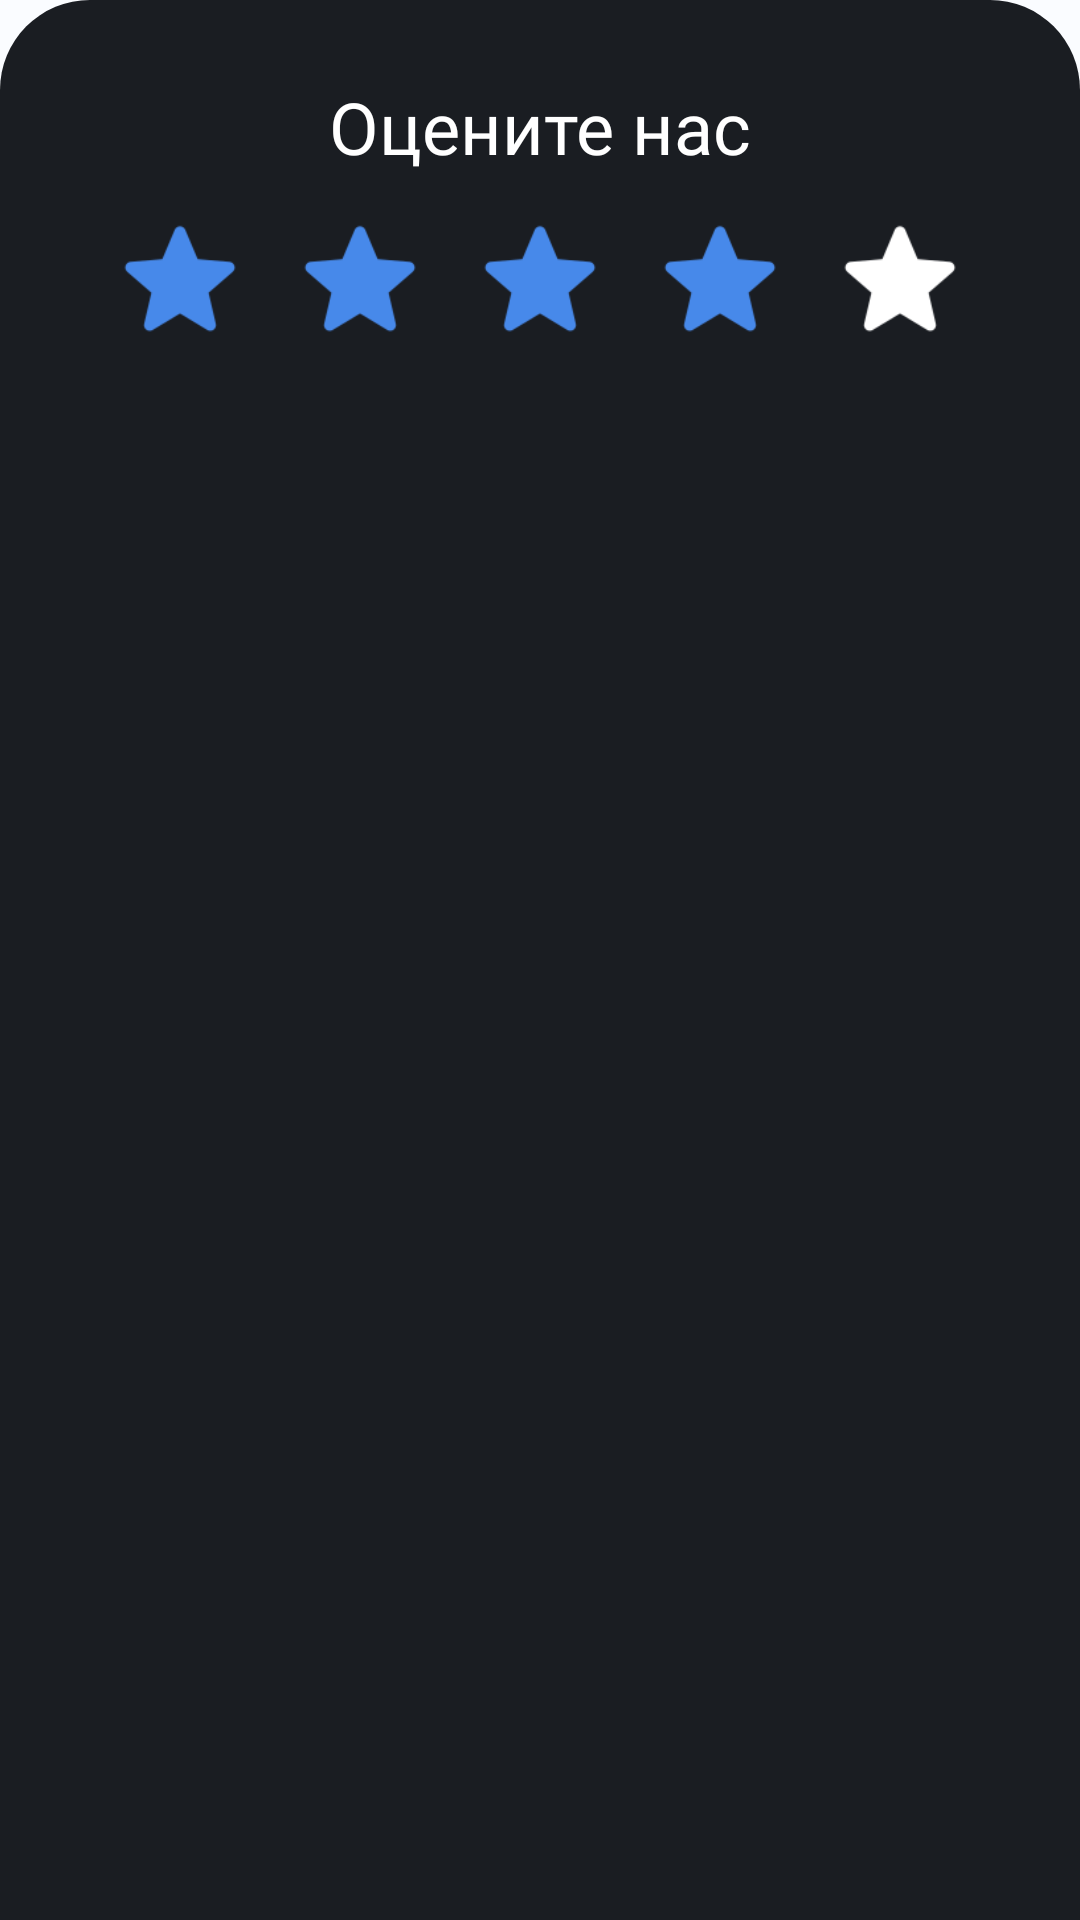

Icons on this 1080*1920 Android screen, each with the point to tap as point (x, y):
star: point (900, 278)
star approved: point (180, 278), point (360, 278), point (540, 278), point (720, 278)
